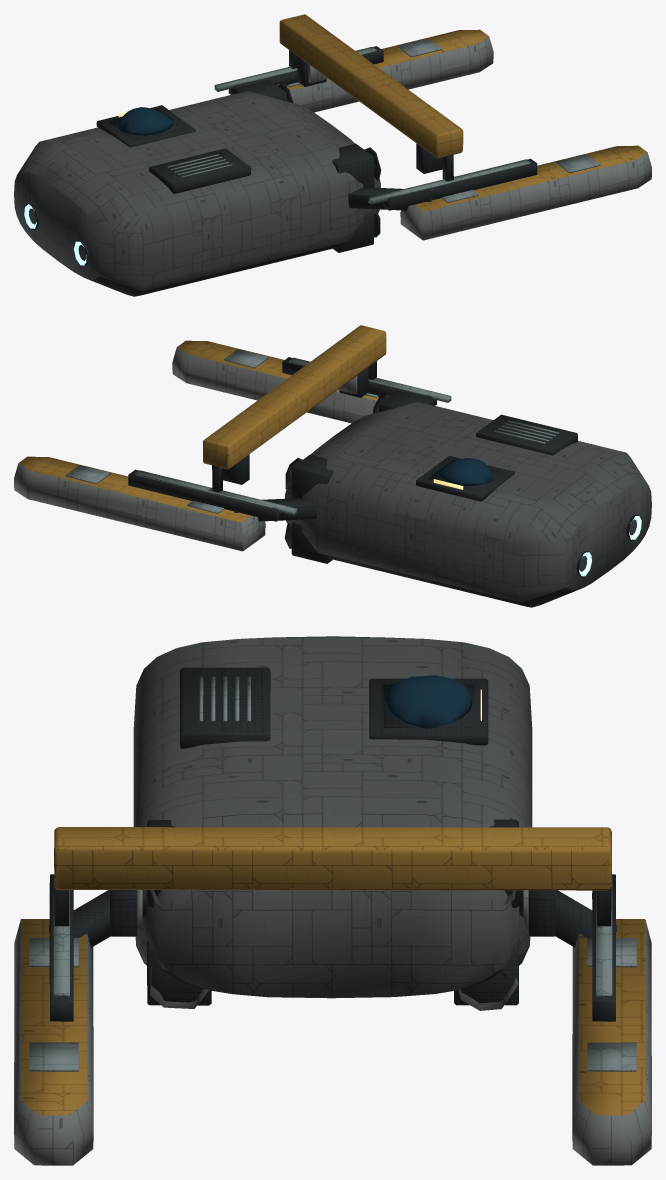
The model's file is pallet_jack_lod2.glb.
The picture shows the model from 3 angles, top to bottom: view 1: azimuth 30°, elevation 25°; view 2: azimuth 150°, elevation 25°; view 3: azimuth 270°, elevation 25°; orthographic projection. The views are drawn at different scales.
Parts seen in each view (by area): view 1: LOD2_Hull, LOD2_Armor, LOD2_MechanicalDark, LOD2_MOTION_PALLET_JACK_CLAMP_Livery, LOD2_Livery, LOD2_BrushedMetal, LOD2_MOTION_PALLET_JACK_CLAMP_MechanicalDark, LOD2_CANOPY, LOD2_MOTION_PALLET_JACK_CLAMP_BrushedMetal; view 2: LOD2_Hull, LOD2_Armor, LOD2_MechanicalDark, LOD2_MOTION_PALLET_JACK_CLAMP_Livery, LOD2_Livery, LOD2_BrushedMetal, LOD2_MOTION_PALLET_JACK_CLAMP_MechanicalDark, LOD2_CANOPY, LOD2_MOTION_PALLET_JACK_CLAMP_BrushedMetal; view 3: LOD2_Hull, LOD2_MOTION_PALLET_JACK_CLAMP_Livery, LOD2_MechanicalDark, LOD2_Livery, LOD2_Armor, LOD2_BrushedMetal, LOD2_MOTION_PALLET_JACK_CLAMP_MechanicalDark, LOD2_CANOPY.
Boxes of the visible parts, x1,y1,x2,y2 form: LOD2_Hull: [14, 91, 380, 291]; LOD2_Armor: [289, 36, 651, 240]; LOD2_MechanicalDark: [24, 46, 537, 296]; LOD2_MOTION_PALLET_JACK_CLAMP_Livery: [279, 14, 463, 158]; LOD2_Livery: [287, 29, 647, 211]; LOD2_BrushedMetal: [167, 38, 600, 202]; LOD2_MOTION_PALLET_JACK_CLAMP_MechanicalDark: [289, 50, 453, 181]; LOD2_CANOPY: [119, 107, 173, 135]; LOD2_MOTION_PALLET_JACK_CLAMP_BrushedMetal: [214, 66, 457, 204]; LOD2_Hull: [285, 402, 651, 602]; LOD2_Armor: [14, 347, 376, 551]; LOD2_MechanicalDark: [128, 357, 641, 607]; LOD2_MOTION_PALLET_JACK_CLAMP_Livery: [203, 325, 386, 469]; LOD2_Livery: [18, 340, 378, 522]; LOD2_BrushedMetal: [65, 349, 559, 513]; LOD2_MOTION_PALLET_JACK_CLAMP_MechanicalDark: [212, 361, 376, 492]; LOD2_CANOPY: [438, 458, 492, 486]; LOD2_MOTION_PALLET_JACK_CLAMP_BrushedMetal: [208, 377, 451, 515]; LOD2_Hull: [133, 636, 532, 998]; LOD2_MOTION_PALLET_JACK_CLAMP_Livery: [54, 827, 611, 890]; LOD2_MechanicalDark: [49, 667, 616, 1021]; LOD2_Livery: [21, 919, 645, 1115]; LOD2_Armor: [14, 919, 651, 1165]; LOD2_BrushedMetal: [29, 676, 636, 1071]; LOD2_MOTION_PALLET_JACK_CLAMP_MechanicalDark: [54, 885, 611, 936]; LOD2_CANOPY: [385, 675, 472, 728].
Size of what is drawn, in the model's own units: 26.11 by 6.19 by 16.
Materials: 8 (5 with a texture image).
